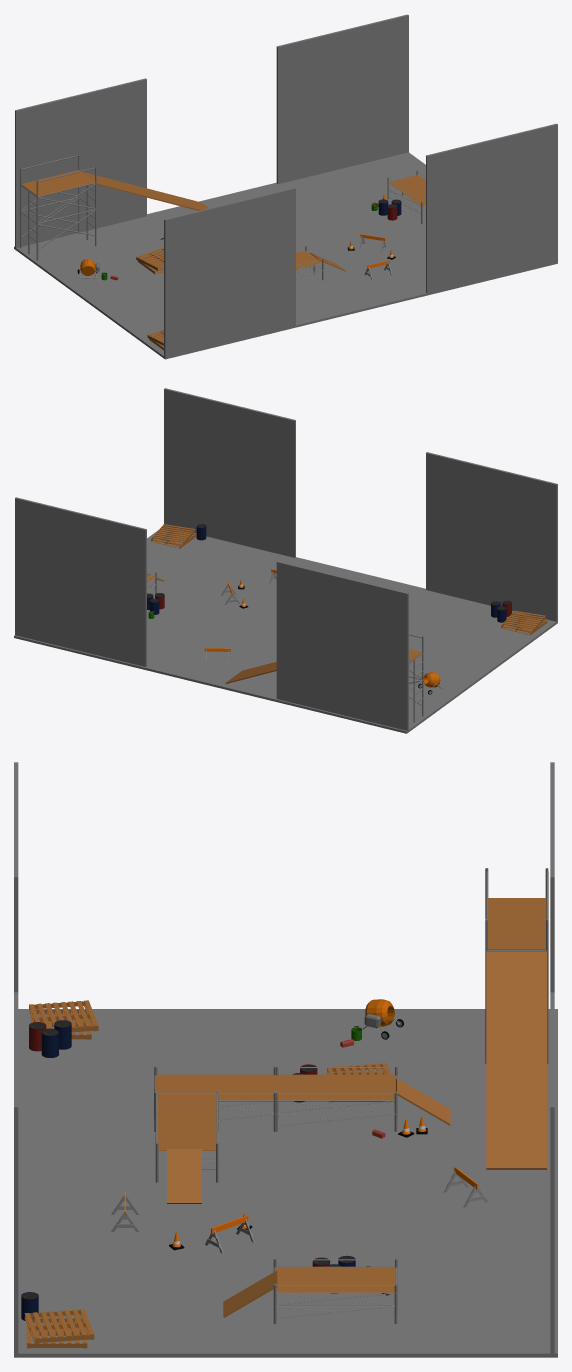
File: 2x3Room.fbx
3 views of the same model, one above another, from view 1: azimuth 30°, elevation 25°; view 2: azimuth 150°, elevation 25°; view 3: azimuth 270°, elevation 25° (orthographic). The views are drawn at different scales.
Parts seen in each view (by area): view 1: Plane.030, Plane.026, Plane.029, Plane.023, Plane.021, Plane.027, Plane.025, Plane.024, Cube.061, Plane.028, Plane.022, Cube.062 (+2 smaller); view 2: Plane.023, Plane.030, Plane.029, Plane.026, Plane.024, Plane.028, Plane.022, Plane.021, Plane.027, Plane.025, Cube.088, Cube.078 (+2 smaller); view 3: Plane.027, Plane.028, Plane.022, Plane.025, Plane.024, Plane.021, Cube.062, Cube.083, Cube.068, Cube.061, Cube.074, Cube.072 (+11 smaller).
Part boxes in pixels (box(x1,y1,x2,y2)): Plane.030: box(276, 14, 408, 184); Plane.026: box(164, 187, 295, 357); Plane.029: box(426, 123, 557, 293); Plane.023: box(15, 78, 146, 247); Plane.021: box(14, 216, 163, 303); Plane.027: box(276, 152, 425, 237); Plane.025: box(296, 238, 426, 327); Plane.024: box(89, 284, 295, 359); Cube.061: box(20, 153, 96, 260); Plane.028: box(352, 220, 557, 295); Plane.022: box(147, 183, 350, 251); Cube.062: box(82, 171, 208, 210); Plane.023: box(276, 561, 408, 730); Plane.030: box(15, 497, 146, 666); Plane.029: box(164, 388, 295, 557); Plane.026: box(426, 452, 557, 621); Plane.024: box(409, 590, 557, 678); Plane.028: box(147, 529, 294, 612); Plane.022: box(145, 612, 276, 701); Plane.021: box(276, 660, 482, 733); Plane.027: box(14, 596, 219, 669); Plane.025: box(221, 557, 425, 625); Cube.088: box(502, 610, 545, 631); Cube.078: box(152, 524, 195, 545); Plane.027: box(286, 1238, 557, 1357); Plane.028: box(14, 1238, 285, 1357); Plane.022: box(286, 1123, 557, 1238); Plane.025: box(18, 1123, 285, 1238); Plane.024: box(18, 1009, 285, 1123); Plane.021: box(286, 1009, 557, 1123); Cube.062: box(486, 951, 546, 1169); Cube.083: box(273, 1258, 397, 1323); Cube.068: box(273, 1066, 397, 1131); Cube.061: box(485, 868, 548, 1063); Cube.074: box(154, 1066, 278, 1131); Cube.072: box(155, 1091, 218, 1182).
Size of the model in its own units: 10800 by 3657 by 7200.
